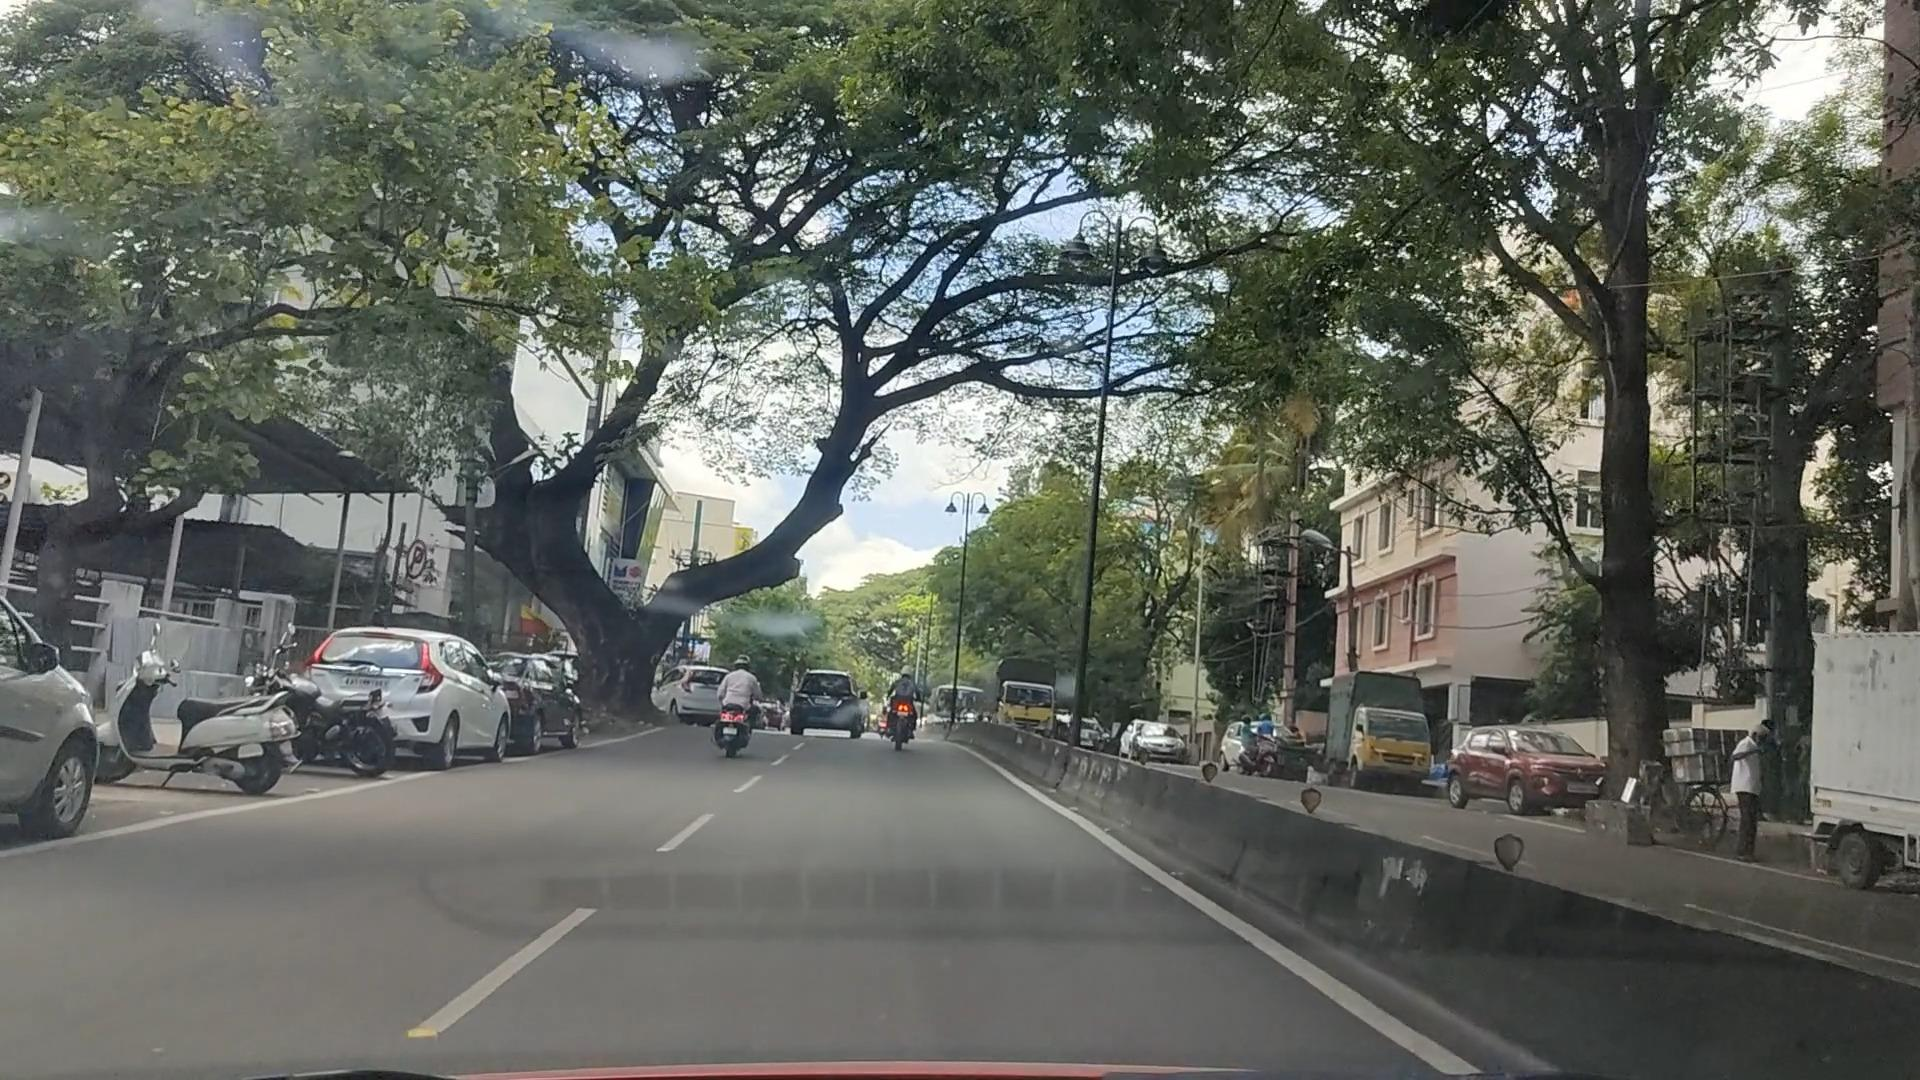LMV: (120, 641, 291, 802), (335, 636, 508, 770)
